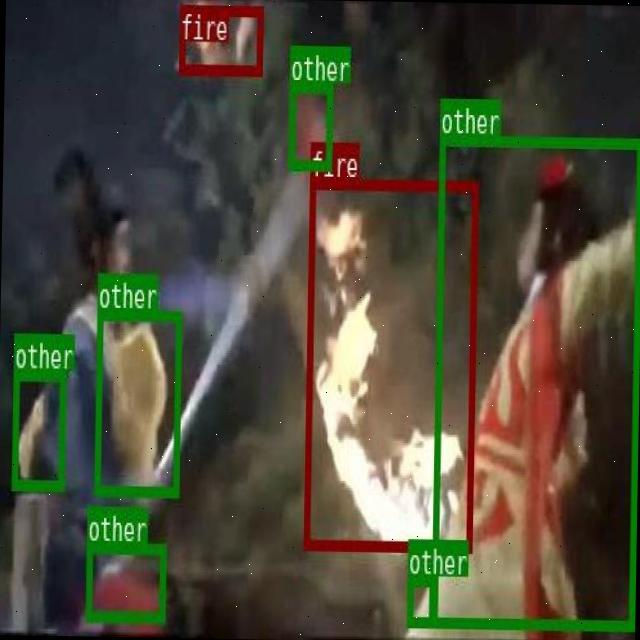fire: (304, 175, 476, 550), (178, 3, 262, 72)
